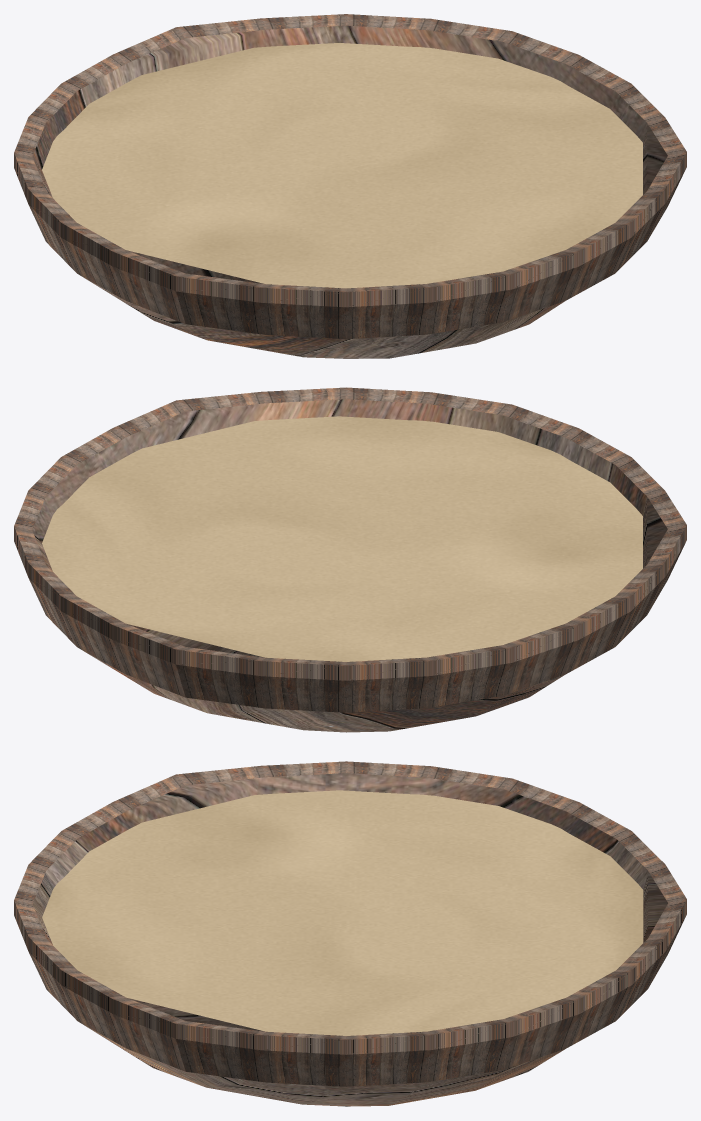
File: sugar.fbx
The picture shows the model from 3 angles, top to bottom: view 1: azimuth 30°, elevation 25°; view 2: azimuth 150°, elevation 25°; view 3: azimuth 270°, elevation 25°; orthographic projection.
Parts seen in each view (by area): view 1: pDisc2, pDisc1; view 2: pDisc2, pDisc1; view 3: pDisc2, pDisc1.
Boxes of the visible parts, x1=… form: pDisc2: x1=42, y1=43, x2=642, y2=288; pDisc1: x1=14, y1=14, x2=686, y2=358; pDisc2: x1=42, y1=416, x2=642, y2=661; pDisc1: x1=14, y1=387, x2=686, y2=732; pDisc2: x1=42, y1=790, x2=643, y2=1035; pDisc1: x1=14, y1=761, x2=686, y2=1106.
Size of the model in its own units: 6.34 by 1.88 by 6.48.
